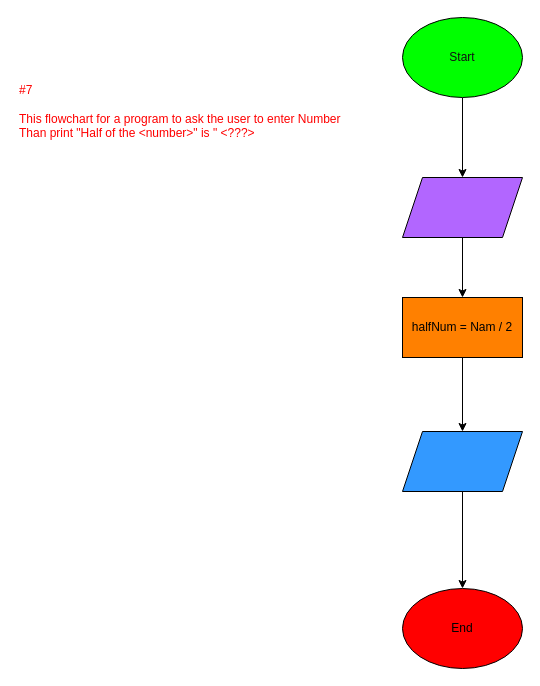
Some shapes in this 540 by 686 pixel diagram are drawn without their labels. The centre of each missing label's shape, as x and y in pixels:
Print: halfNum: [462,461]
Read: Nam: [462,207]
